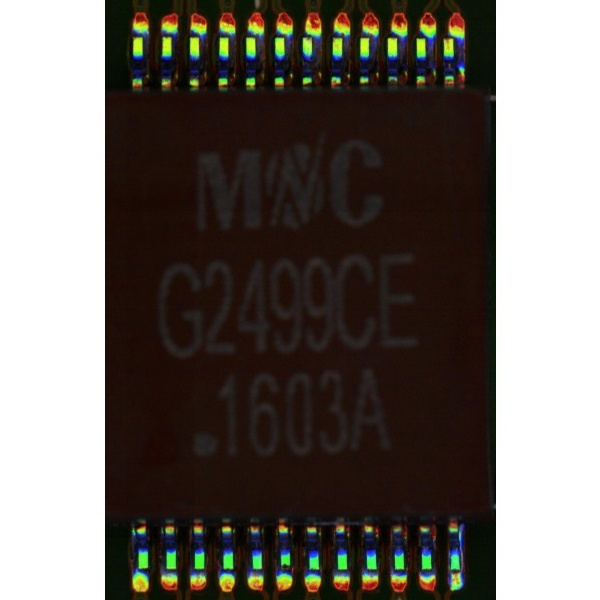Bad_podu: (451, 565, 459, 579)
Bad_qiaojiao: (458, 526, 463, 570)
